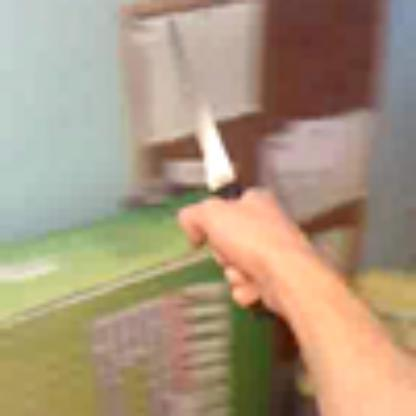knives: (145, 8, 282, 320)
